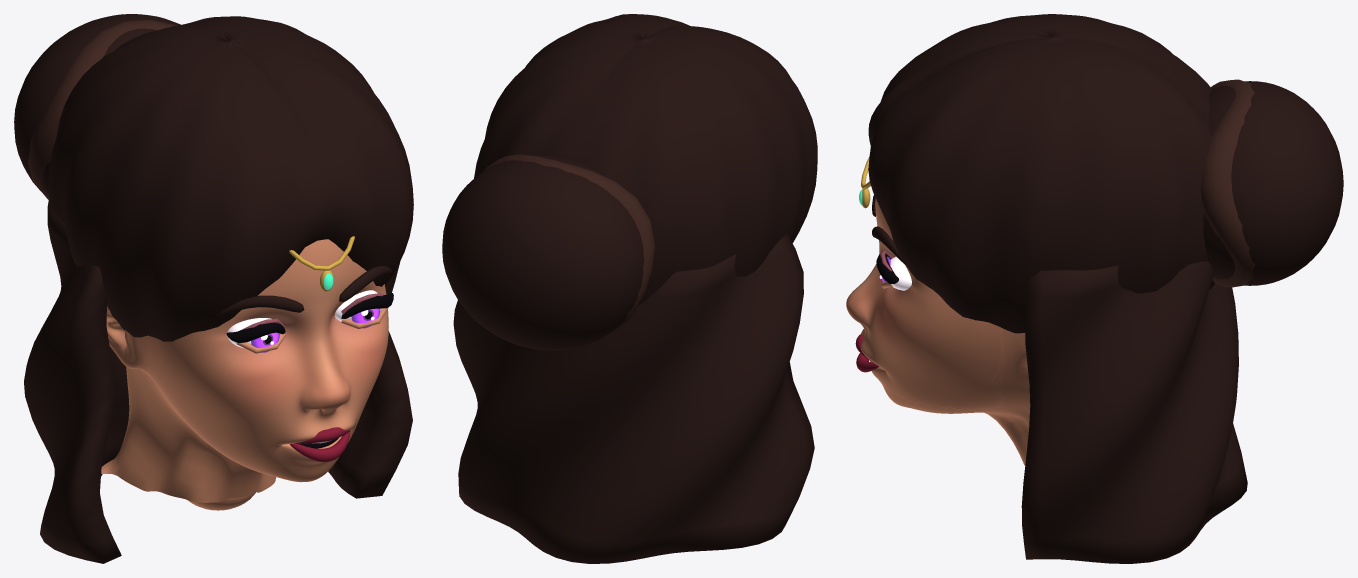
File: char_hr_veronika_head_talk_slight.glb
3 views of the same model, side by side, from view 1: azimuth 30°, elevation 25°; view 2: azimuth 150°, elevation 25°; view 3: azimuth 270°, elevation 25° (orthographic). The views are drawn at different scales.
Parts seen in each view (by area): view 1: char_hr_veronika_head_talk_slight; view 2: char_hr_veronika_head_talk_slight; view 3: char_hr_veronika_head_talk_slight.
Boxes of the visible parts, x1,y1,x2,y2 form: char_hr_veronika_head_talk_slight: (14,14,413,563); char_hr_veronika_head_talk_slight: (442,14,817,563); char_hr_veronika_head_talk_slight: (846,14,1343,563).
Size of the model in its own units: 0.2201 by 0.2918 by 0.2869.
13 materials, 2 textured.
